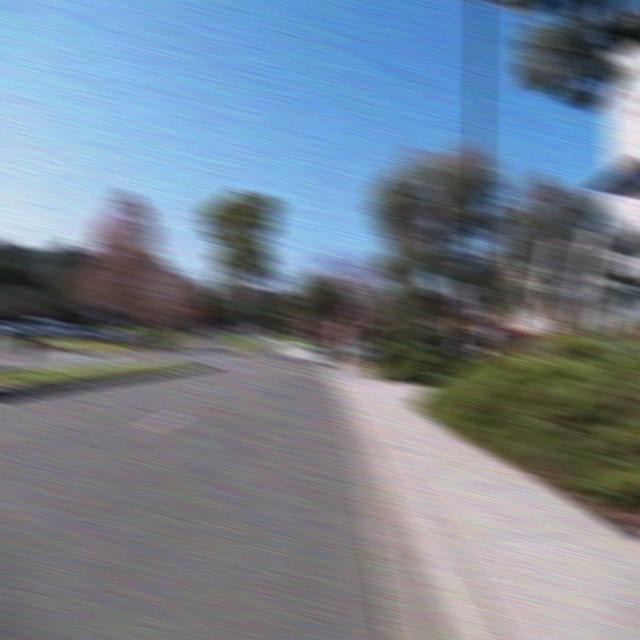stop: (184, 302, 210, 325), (339, 312, 364, 333)
